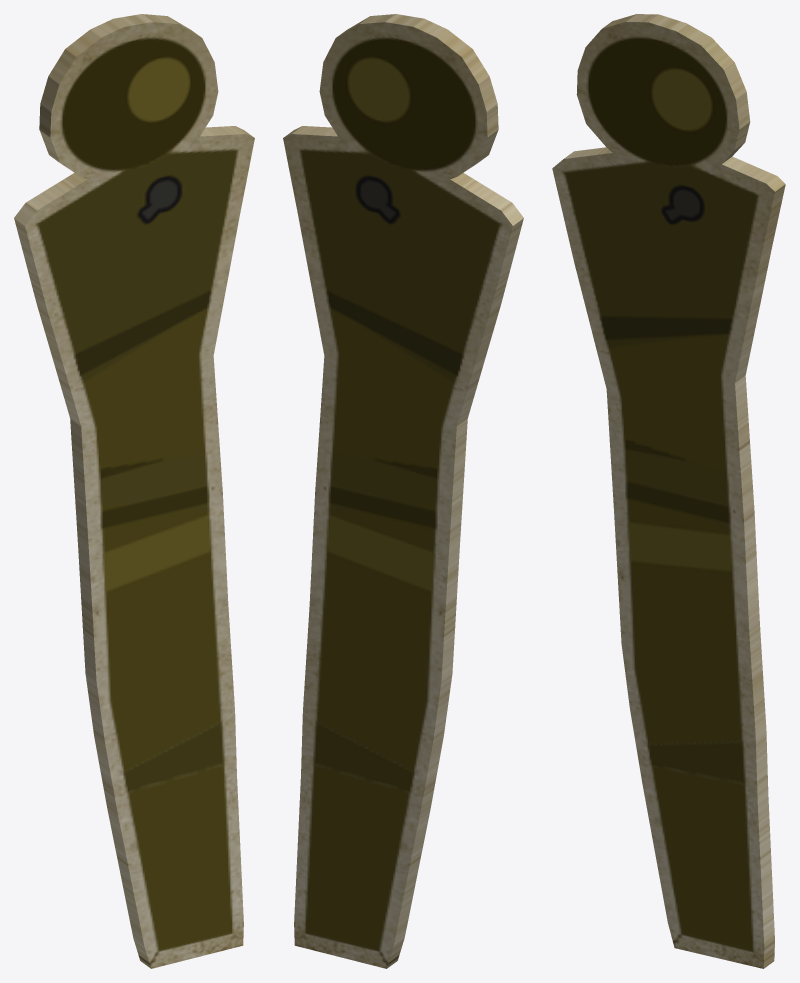
File: plant_010.FBX
3 views of the same model, side by side, from view 1: azimuth 30°, elevation 25°; view 2: azimuth 150°, elevation 25°; view 3: azimuth 330°, elevation 25° (orthographic). The views are drawn at different scales.
Parts seen in each view (by area): view 1: Plane03; view 2: Plane03; view 3: Plane03.
Boxes of the visible parts, x1,y1,x2,y2 form: Plane03: (14, 14, 254, 968); Plane03: (283, 14, 523, 968); Plane03: (552, 14, 785, 968).
Bounding box in the file's own units: 39.18 × 154 × 3.26.
Materials: 1 (1 with a texture image).
